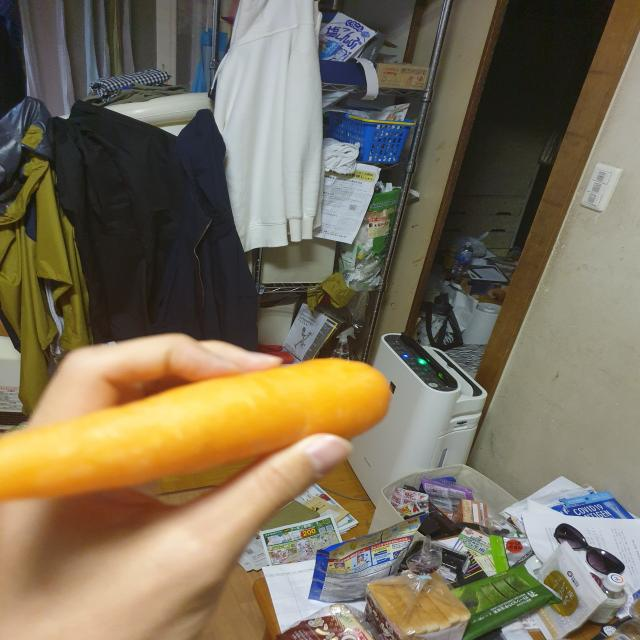carrot: (0, 348, 411, 508)
